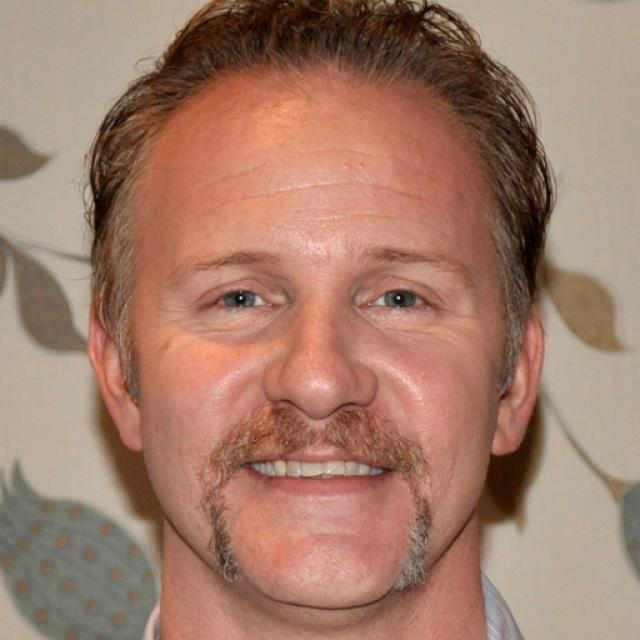Acne: (354, 161, 376, 175), (336, 159, 354, 172)
Wrinkle: (215, 174, 430, 212), (320, 207, 444, 235), (196, 153, 275, 193)
